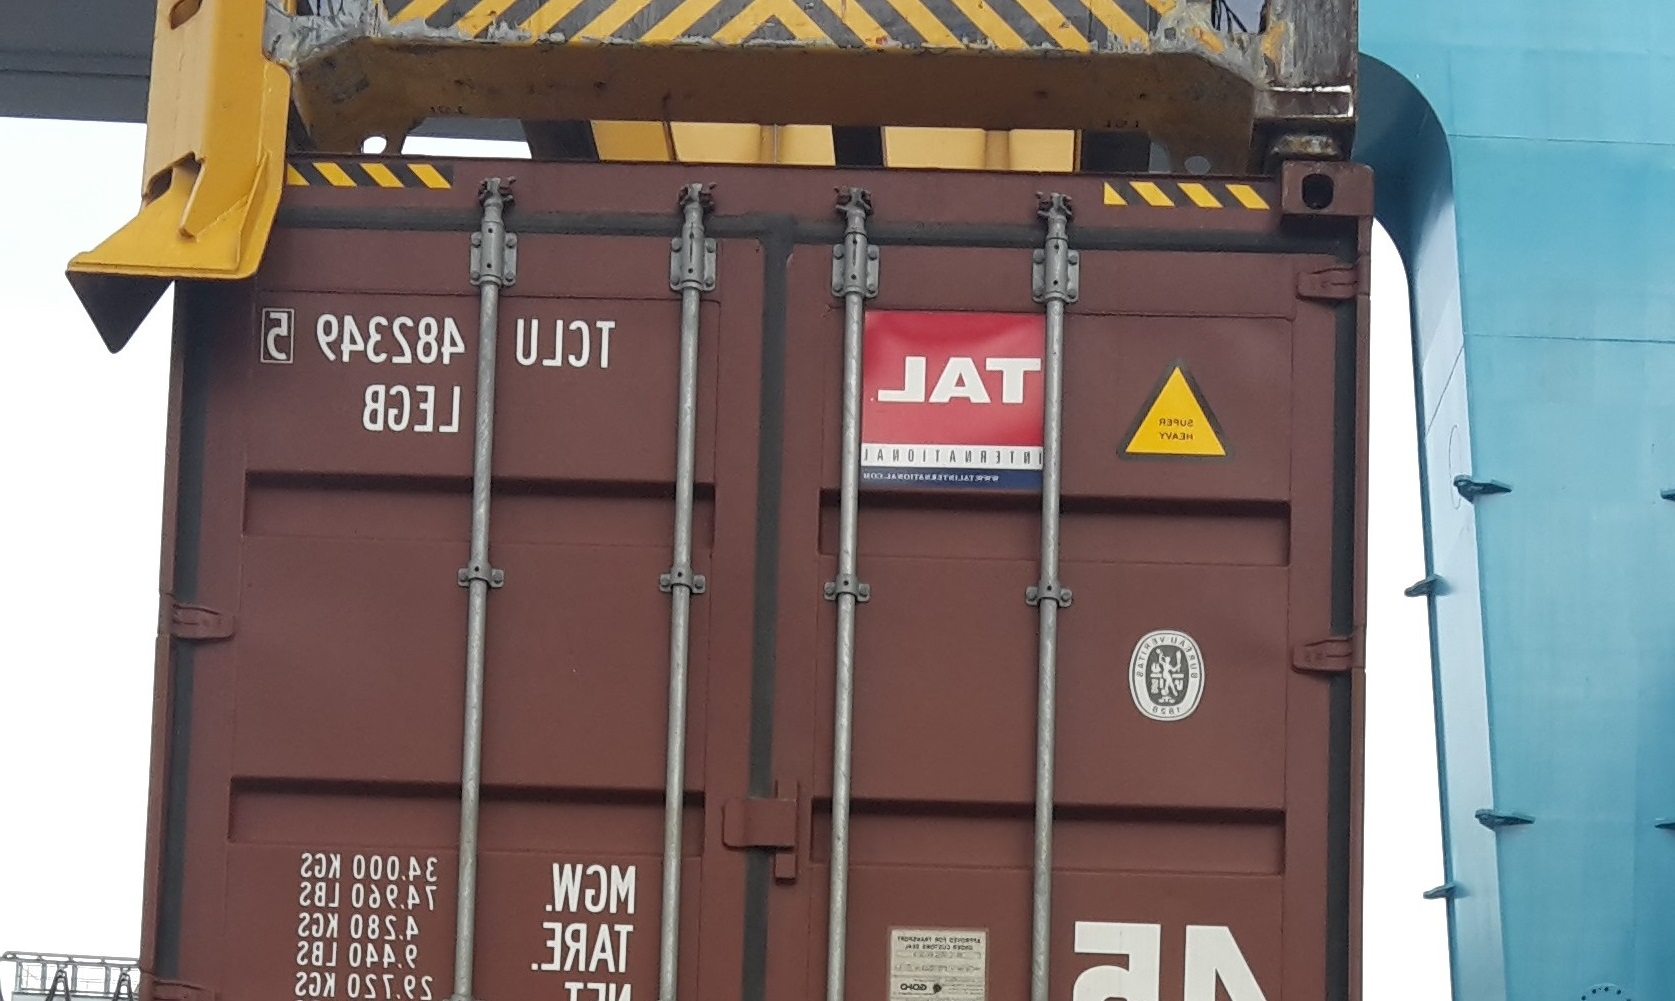container_door: (181, 153, 1356, 1001)
